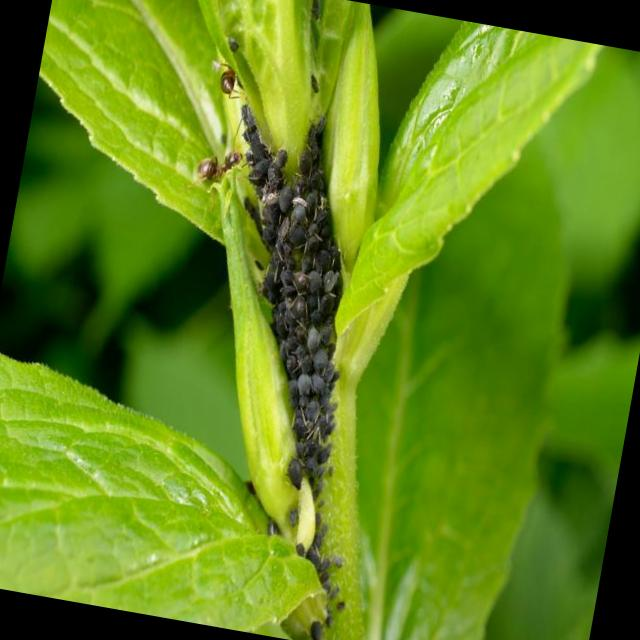aphid: (276, 449, 312, 498)
